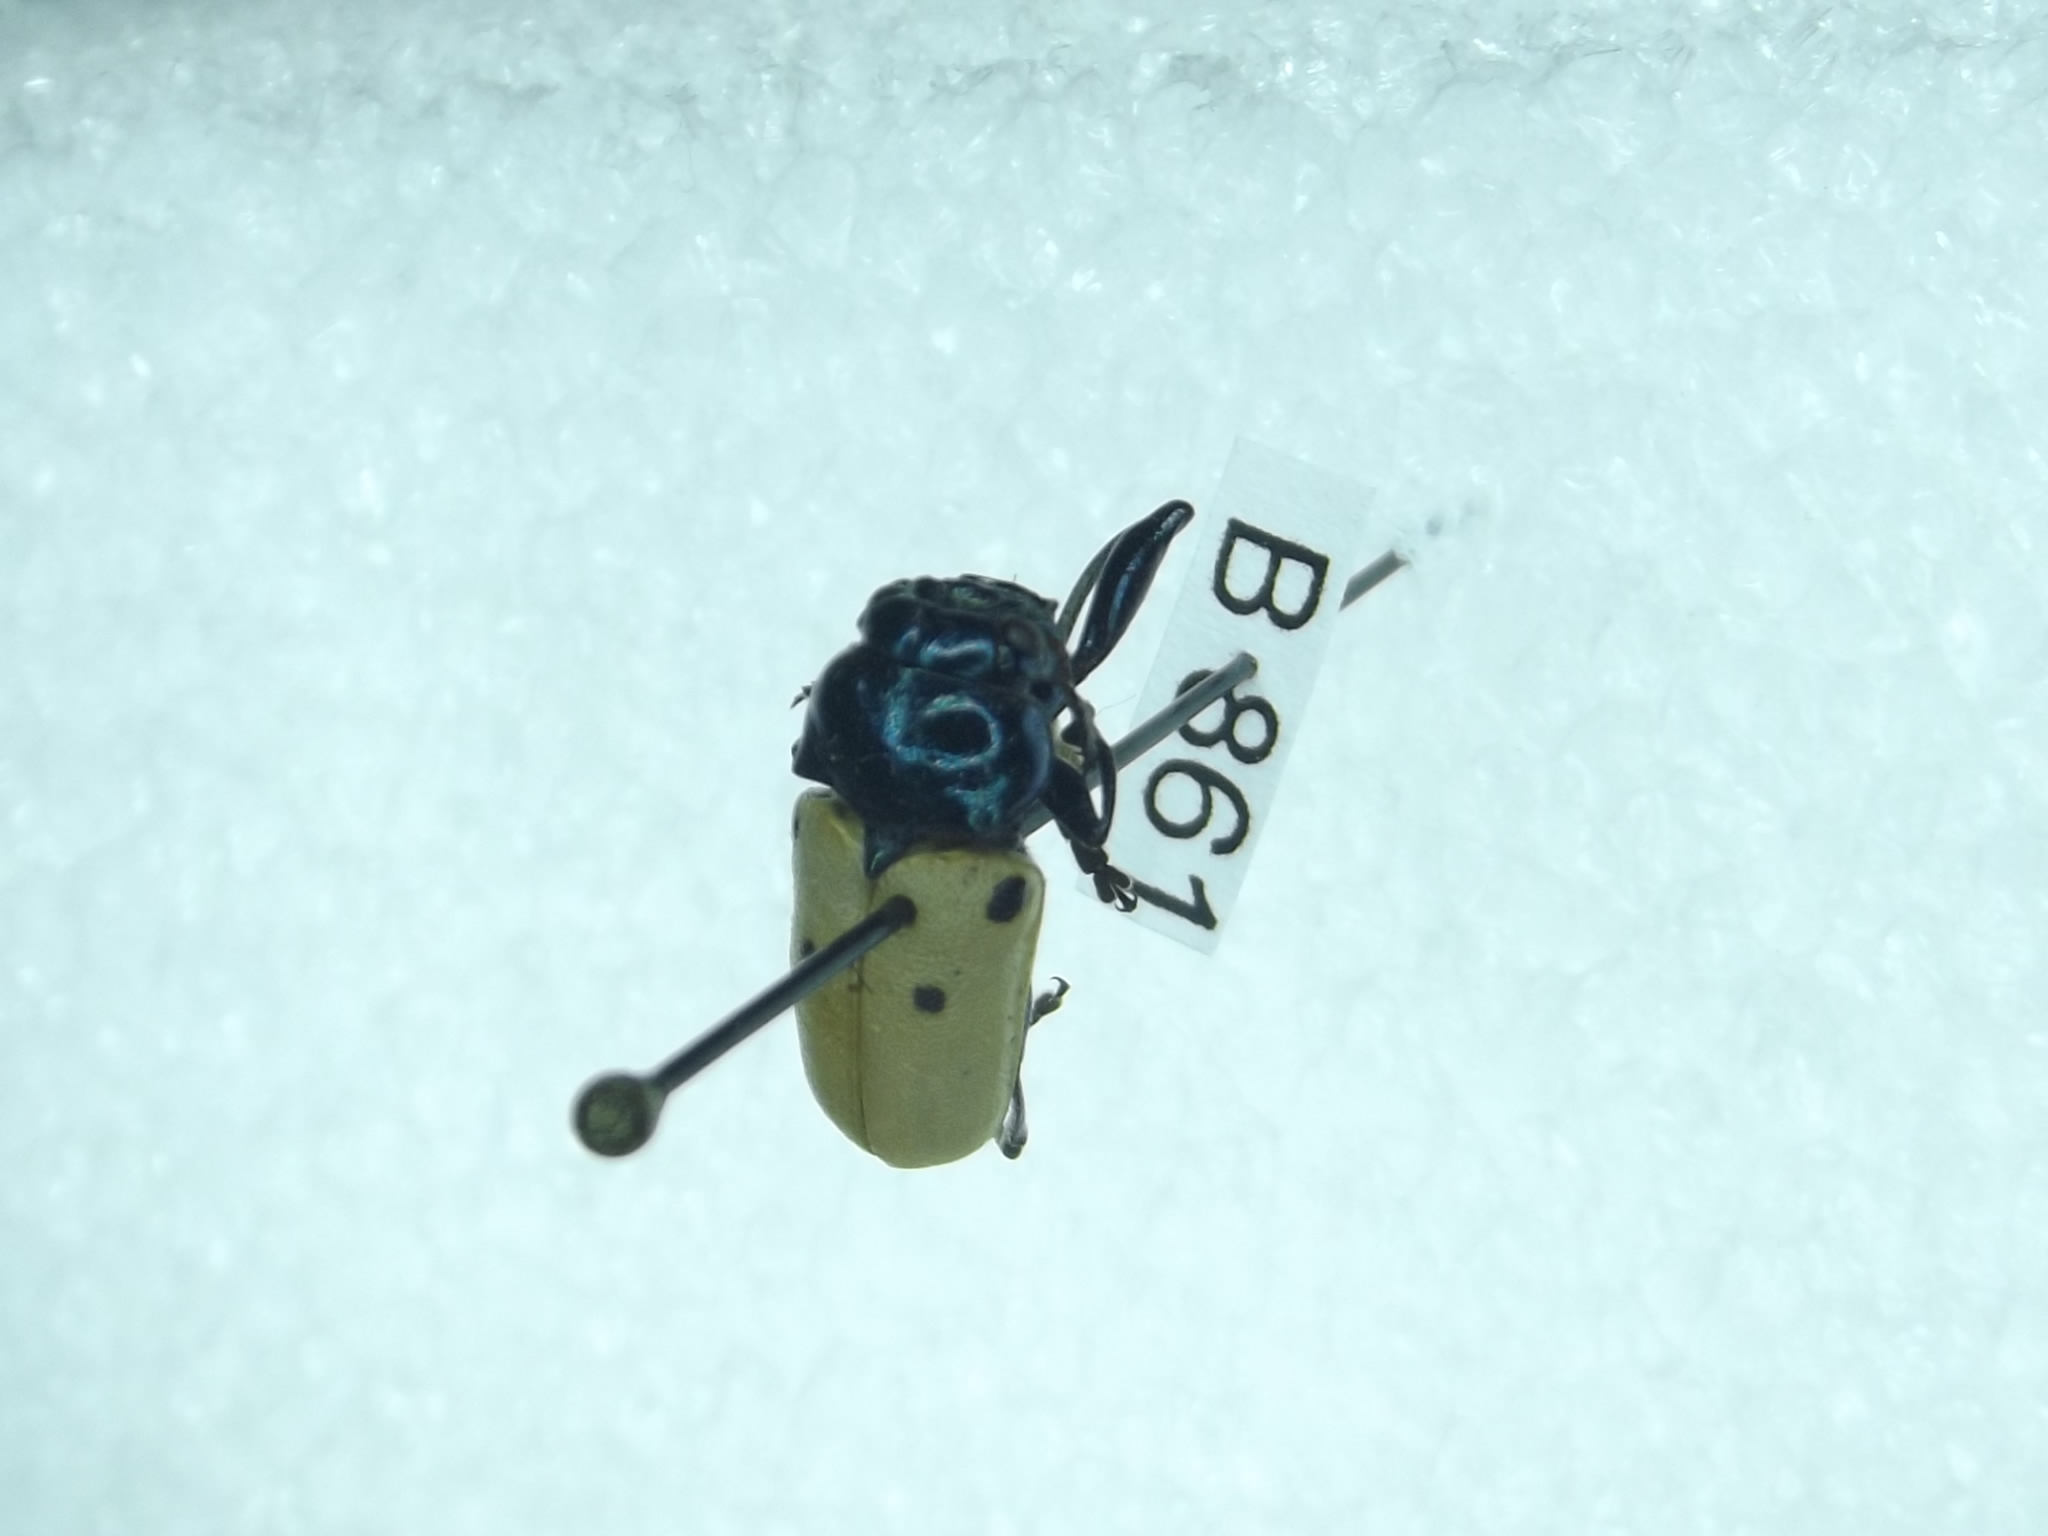Labidostomis_maculipennis: (760, 481, 1190, 1199)
